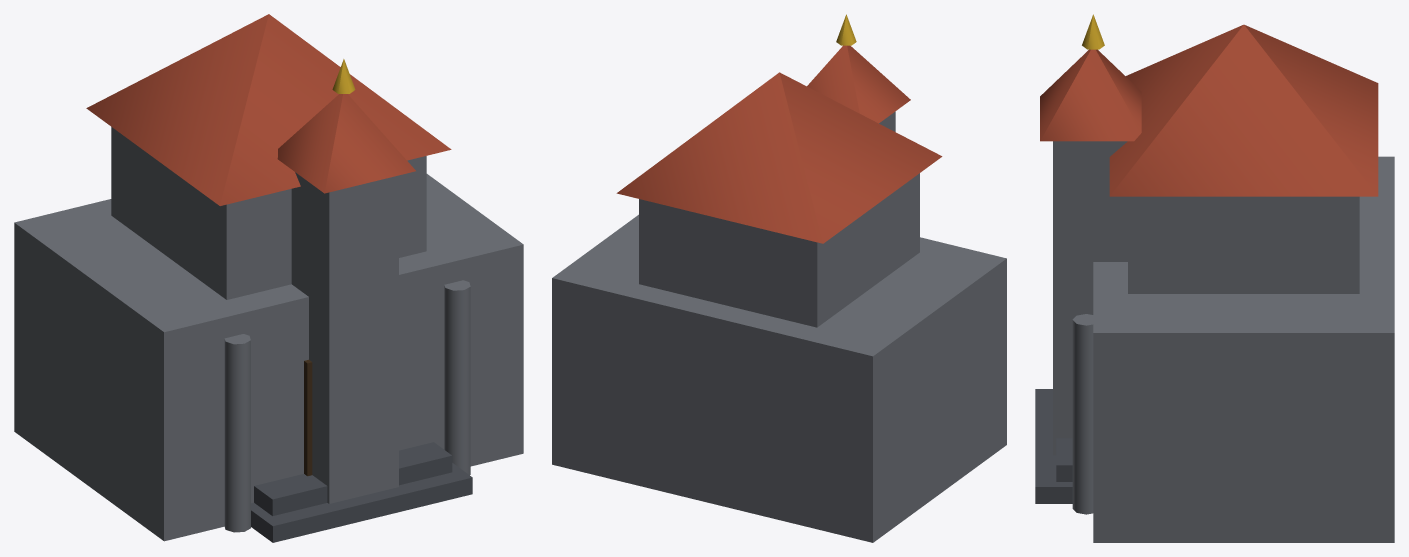
Rendered from town-hall.glb.
3 renders of one model, left to right at view 1: azimuth 30°, elevation 25°; view 2: azimuth 150°, elevation 25°; view 3: azimuth 270°, elevation 25°, orthographic. The views are drawn at different scales.
Size of the model in its own units: 1.8 by 2.1 by 1.55.
